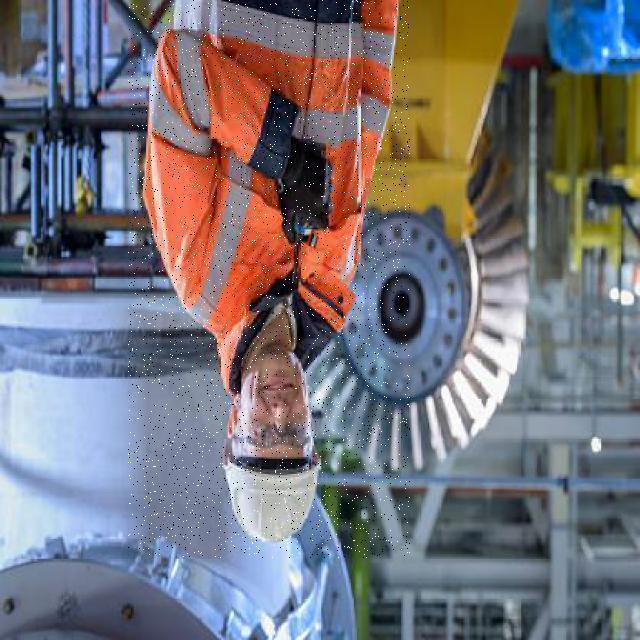gloves: (277, 129, 341, 241)
